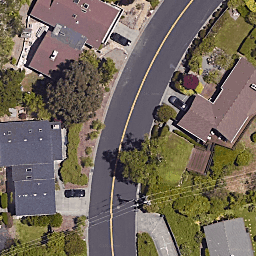car: (108, 31, 132, 47), (167, 93, 188, 111), (61, 187, 85, 198)
